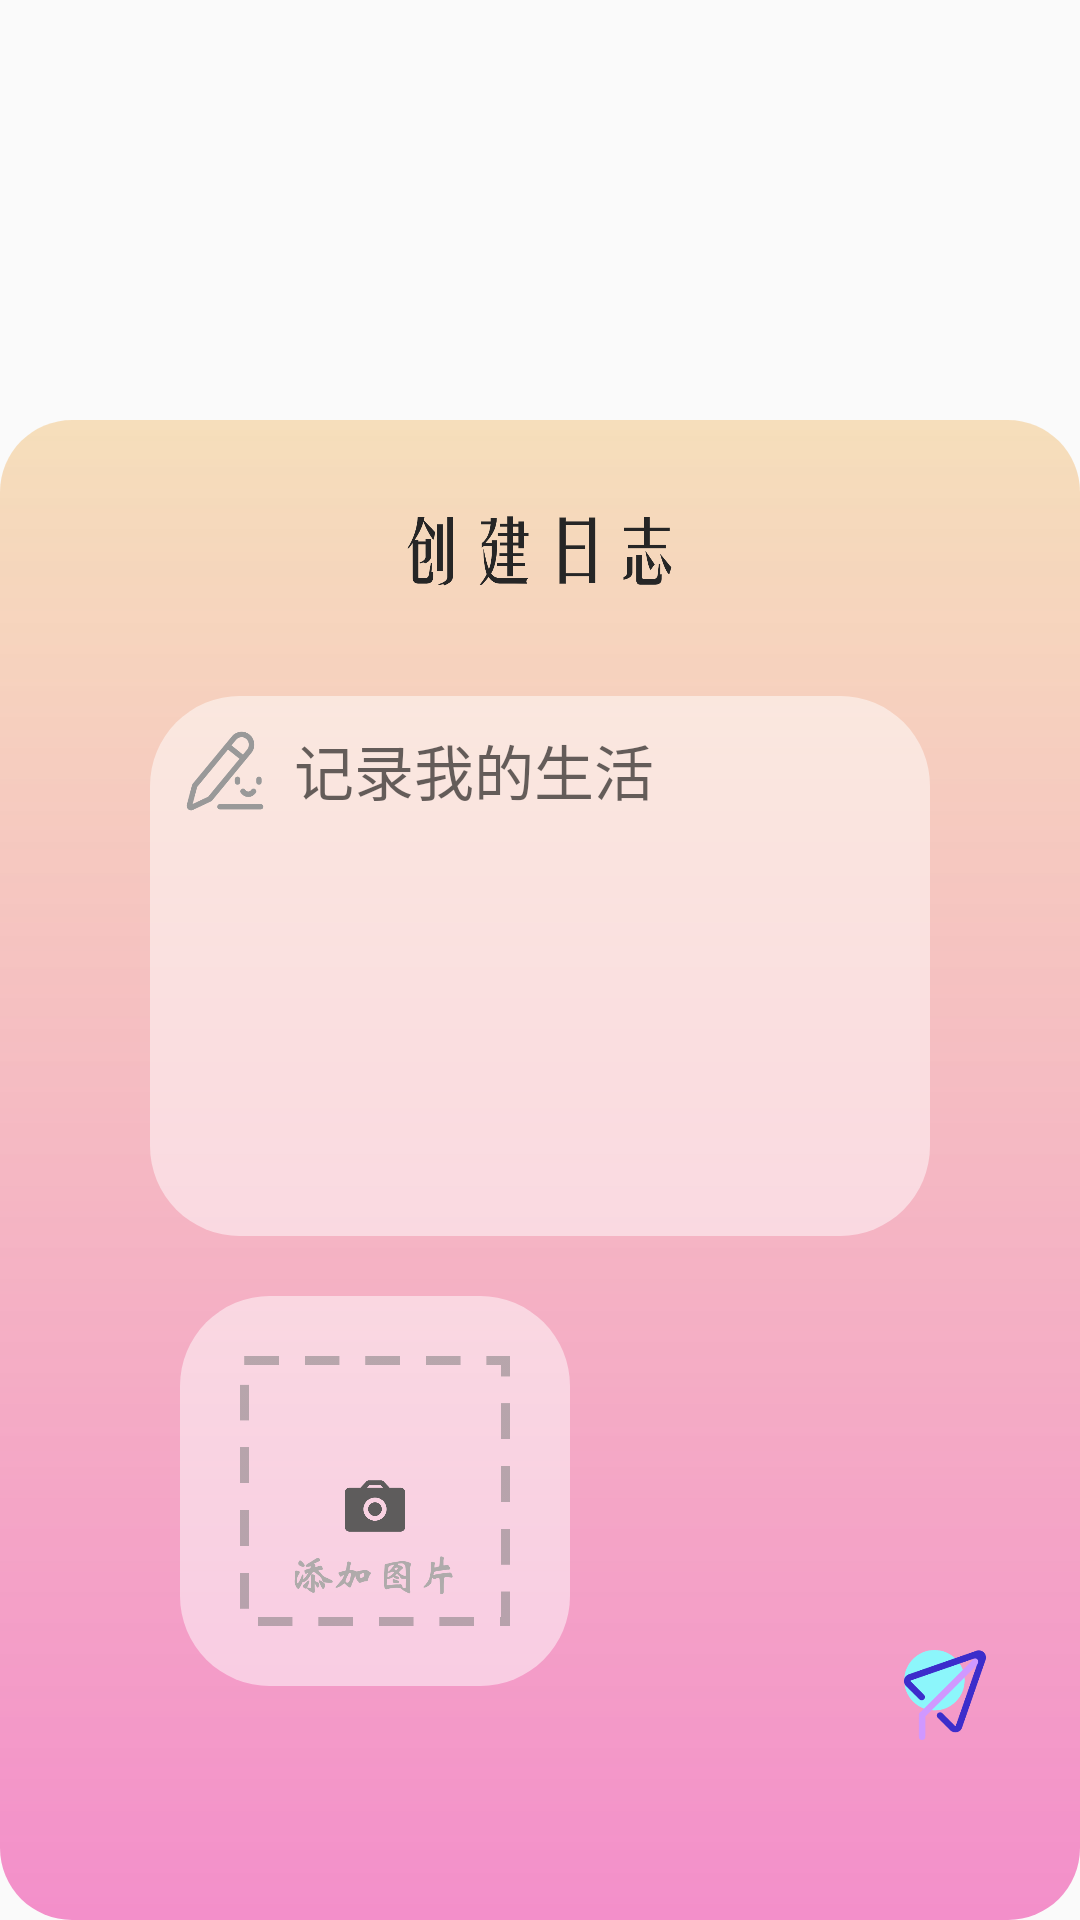

Named icons in this screenshot (1080×1920) and their bounding boxes, (x1, y1, x2, y2):
add diary send: (904, 1650, 986, 1740)
